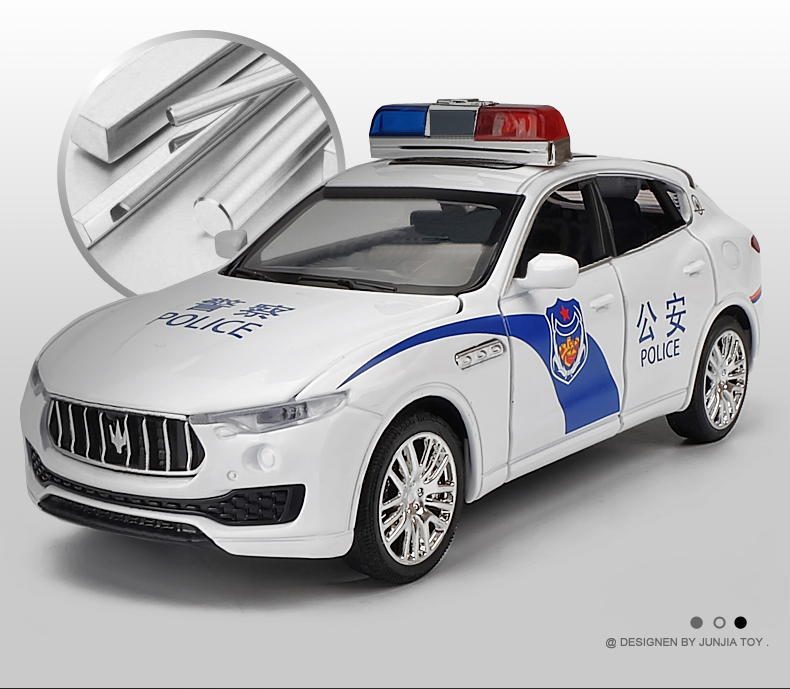Car: (14, 92, 787, 598)
